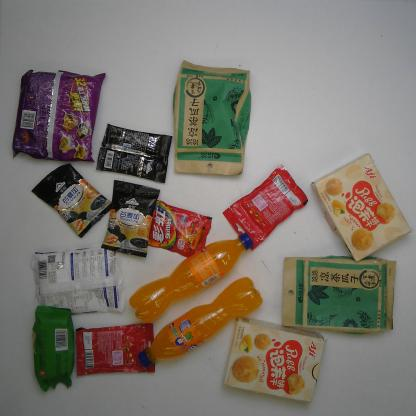Candy: (220, 162, 312, 253), (73, 320, 158, 378), (145, 198, 213, 261)
Dessert: (309, 147, 413, 265), (219, 310, 332, 406), (24, 304, 79, 393)
Dried Food: (168, 55, 256, 178), (277, 254, 401, 336)
Drink: (118, 230, 256, 326), (135, 275, 265, 370)
Instant Drink: (28, 160, 114, 240), (93, 120, 173, 184), (101, 178, 155, 261)
Instant Noodles: (8, 66, 108, 164)
Seasoner: (30, 244, 134, 320)
